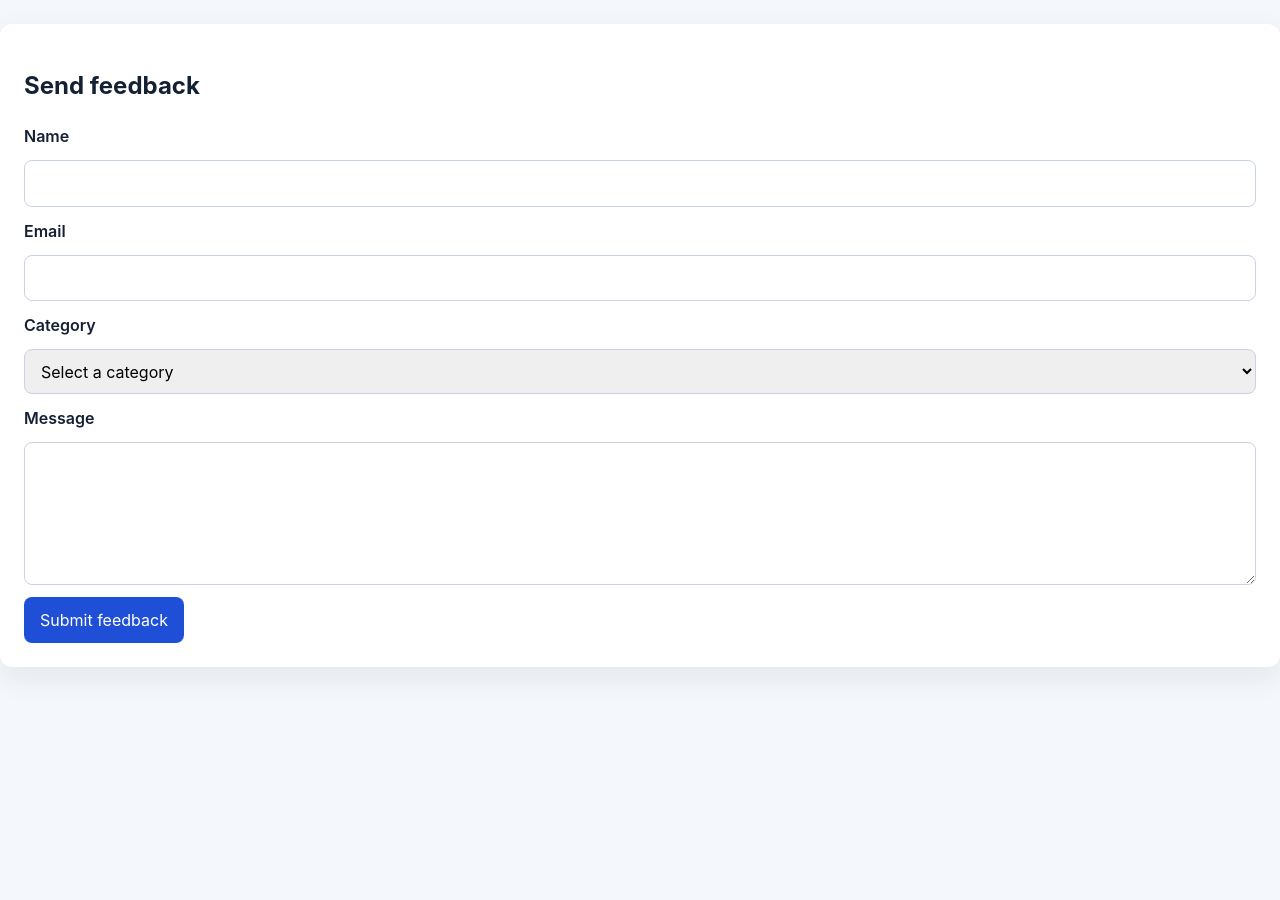
Test: FeedbackForm acceptance › shows validation errors before submit reaches the backend
The image size is (1280, 900).
Click the button "Submit feedback" at (104, 620), box [24,597,184,643]
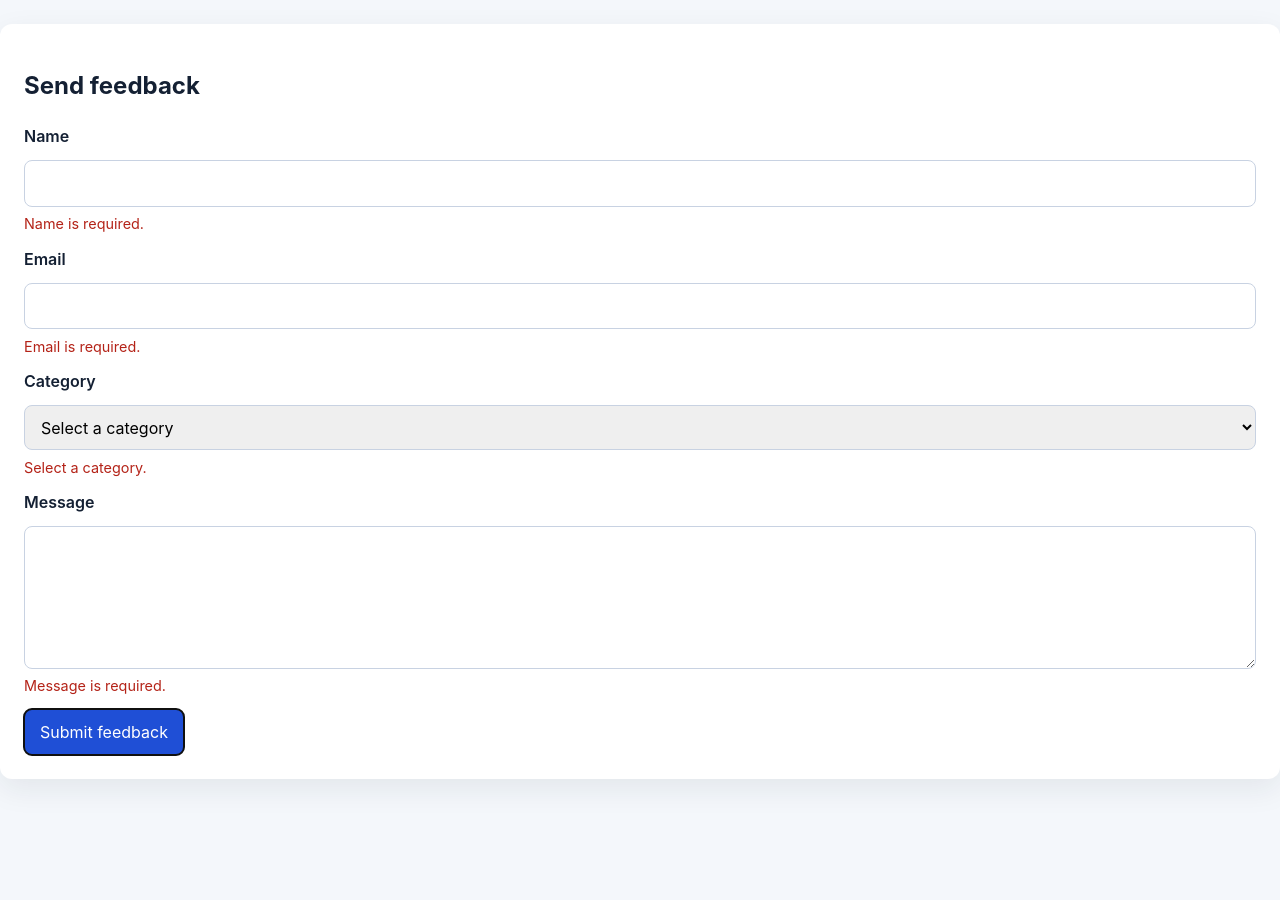
expect the text "Name is required." is shown: met, box [24,215,144,232]
expect the text "Email is required." is shown: met, box [24,338,140,355]
expect the text "Select a category." is shown: met, box [24,459,147,476]
